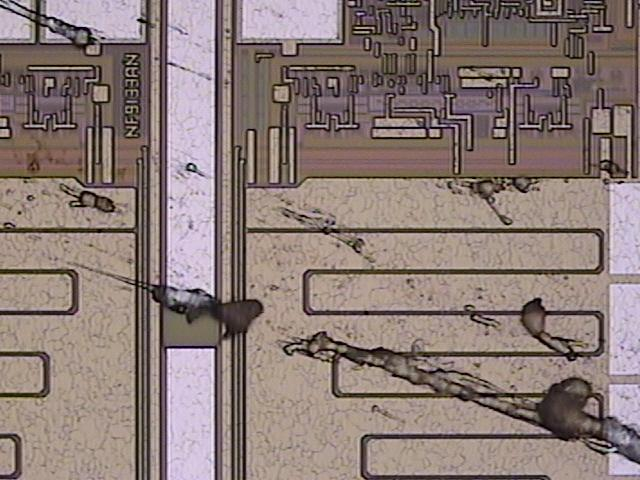PO CONTAMINATION: (1, 1, 640, 466)
